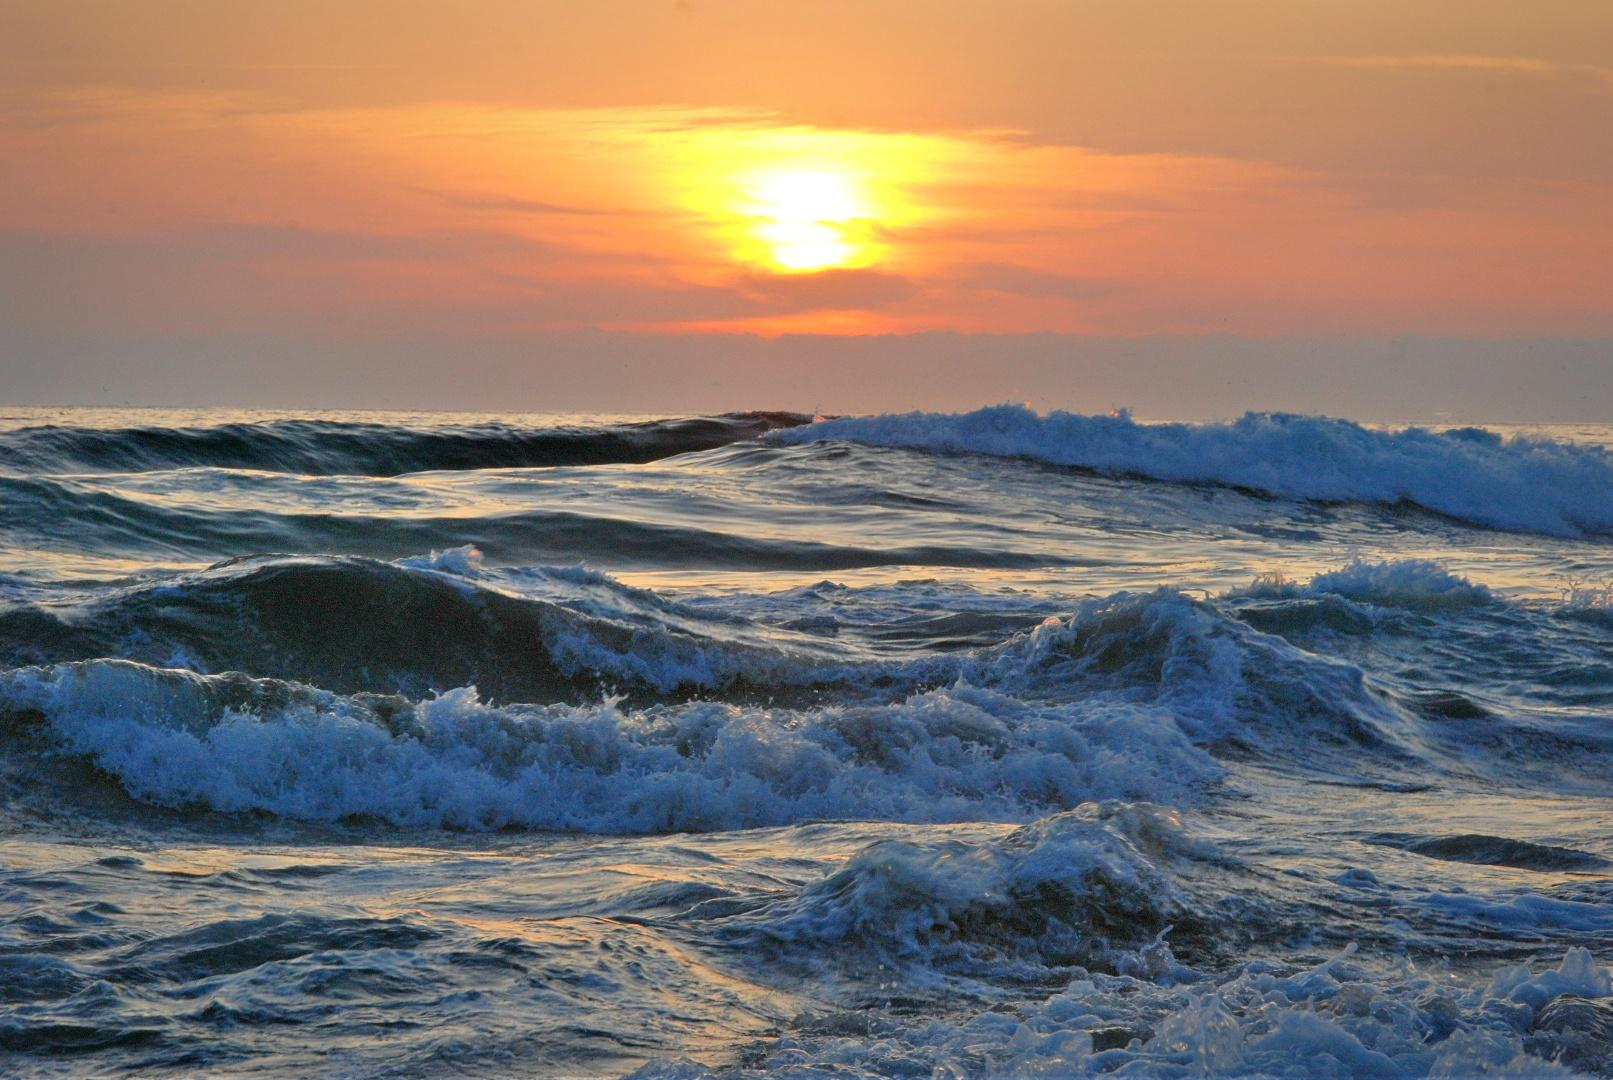penholder: (1091, 849, 1613, 1080)
